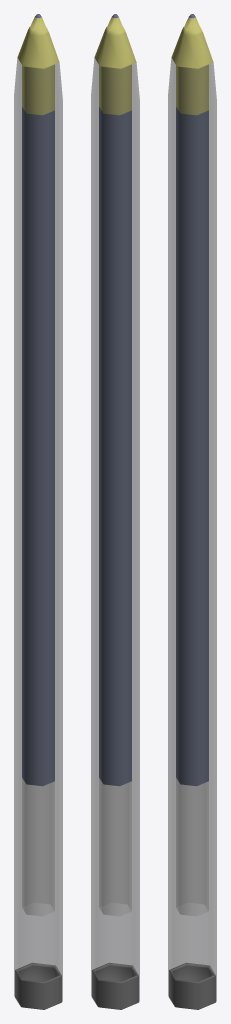
The model's file is Pen_3.fbx.
The picture shows the model from 3 angles, left to right: view 1: azimuth 90°, elevation 25°; view 2: azimuth 210°, elevation 25°; view 3: azimuth 270°, elevation 25°; orthographic projection.
Visible parts, largest first — view 1: pen; view 2: pen; view 3: pen.
Boxes of the visible parts, left/top/right/bottom form: pen: left=14, top=14, right=62, bottom=1009; pen: left=91, top=14, right=139, bottom=1009; pen: left=168, top=14, right=216, bottom=1009.
Size of the model in its own units: 0.0451 by 1 by 0.0451.
